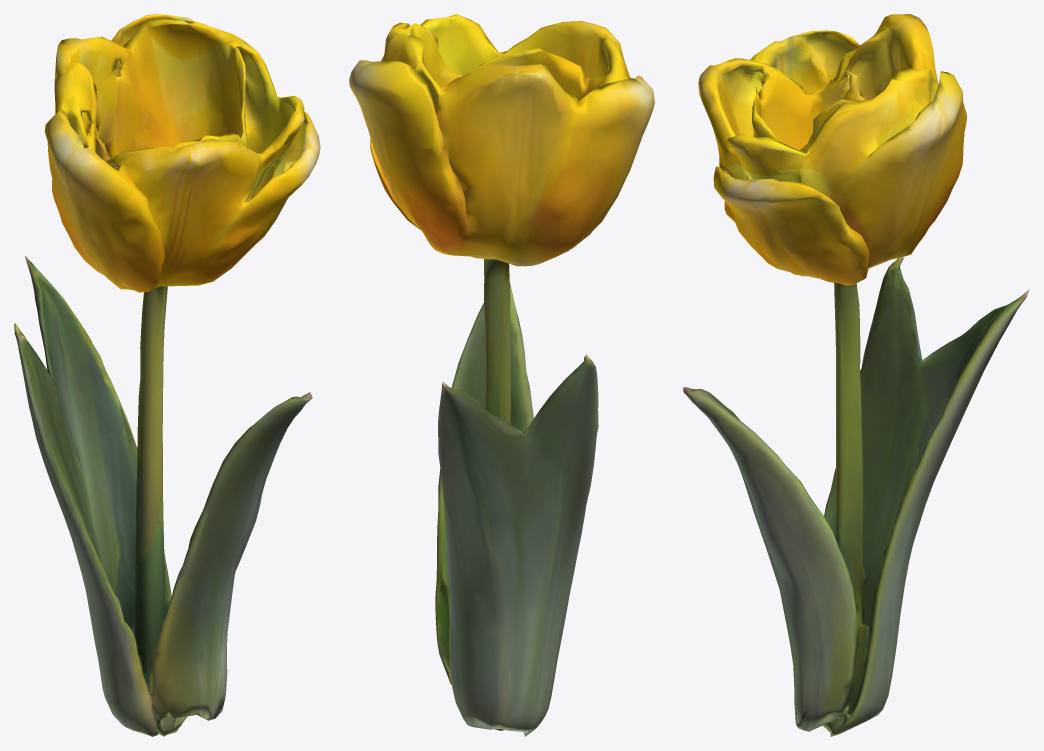
Rendered from tulipan.glb.
The picture shows the model from 3 angles, left to right: view 1: azimuth 30°, elevation 25°; view 2: azimuth 150°, elevation 25°; view 3: azimuth 270°, elevation 25°; orthographic projection. The views are drawn at different scales.
Size of the model in its own units: 0.7835 by 1.99 by 0.9109.
1 material, 1 textured.
